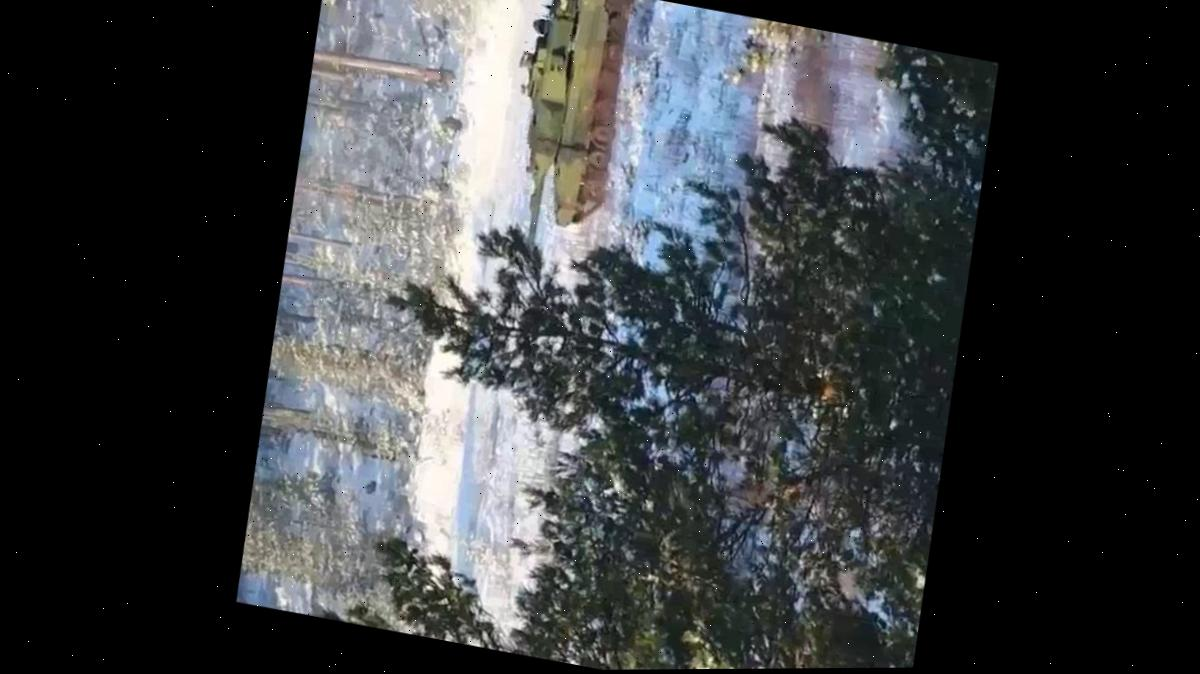tank: (469, 0, 650, 328)
